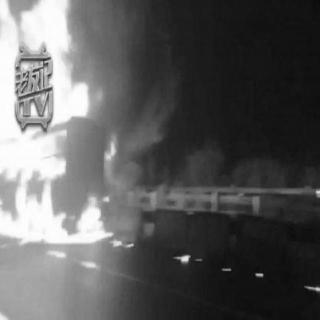Fire: (2, 0, 138, 258)
